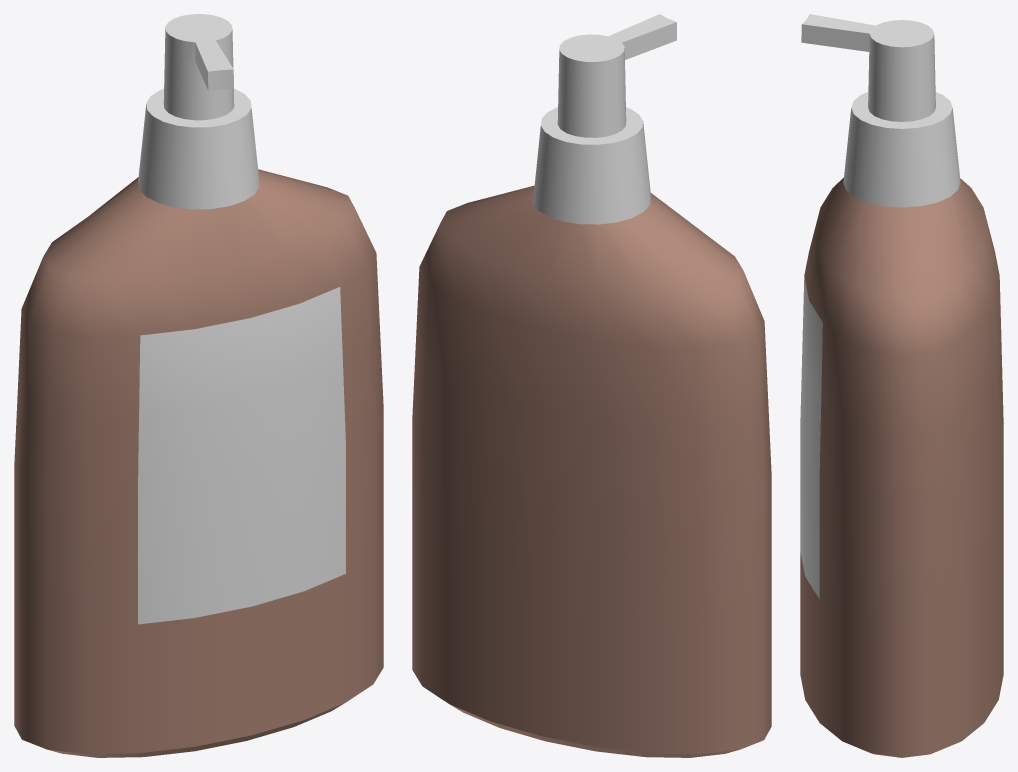
Rendered from LotionBottle.fbx.
The picture shows the model from 3 angles, left to right: view 1: azimuth 30°, elevation 25°; view 2: azimuth 150°, elevation 25°; view 3: azimuth 270°, elevation 25°; orthographic projection. The views are drawn at different scales.
Visible parts, largest first — view 1: pasted__Conditioner; view 2: pasted__Conditioner; view 3: pasted__Conditioner.
Boxes of the visible parts, bbox=[...] form: pasted__Conditioner: bbox=[14, 14, 383, 757]; pasted__Conditioner: bbox=[412, 14, 771, 757]; pasted__Conditioner: bbox=[800, 14, 1003, 757].
Size of the model in its own units: 13.32 by 24.41 by 6.91.
